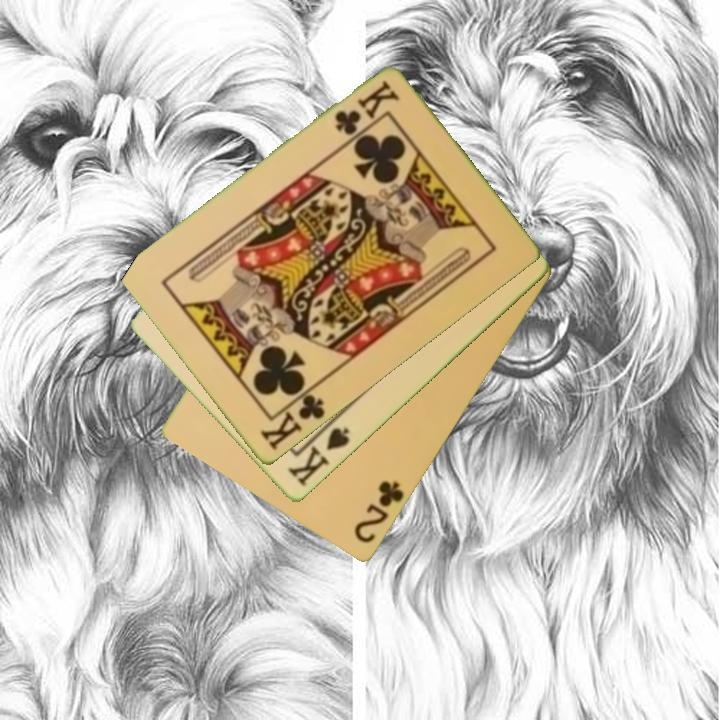2c: (350, 477, 407, 547)
Kc: (256, 383, 328, 454), (330, 76, 402, 139)
Ks: (284, 416, 353, 490)
